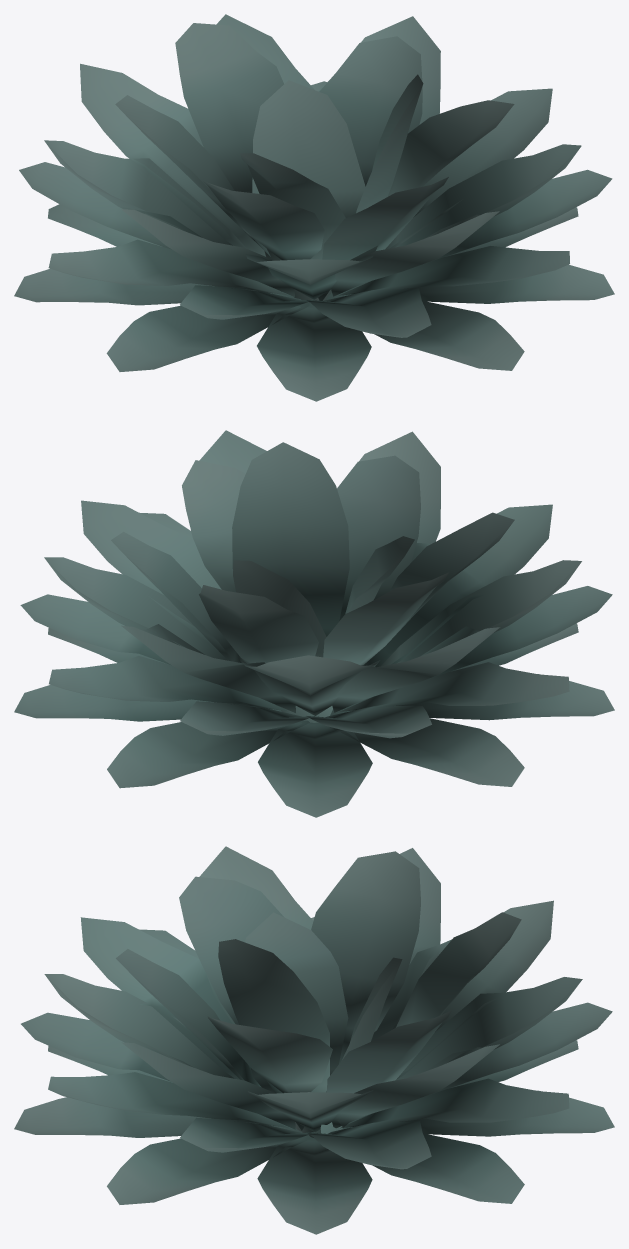
The model's file is plants-cacti-succulents-blue-echeveria_v1.glb.
The picture shows the model from 3 angles, top to bottom: view 1: azimuth 30°, elevation 25°; view 2: azimuth 150°, elevation 25°; view 3: azimuth 270°, elevation 25°; orthographic projection.
Visible parts, largest first — view 1: Blue Echeveria_v1; view 2: Blue Echeveria_v1; view 3: Blue Echeveria_v1.
Part boxes in pixels (box(x1,y1,x2,y2)): Blue Echeveria_v1: box(14, 14, 614, 401); Blue Echeveria_v1: box(14, 430, 614, 817); Blue Echeveria_v1: box(14, 846, 614, 1234).
Bounding box in the file's own units: 0.2 × 0.1072 × 0.1984.
